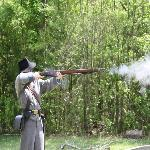Senapan: (34, 66, 114, 86)
